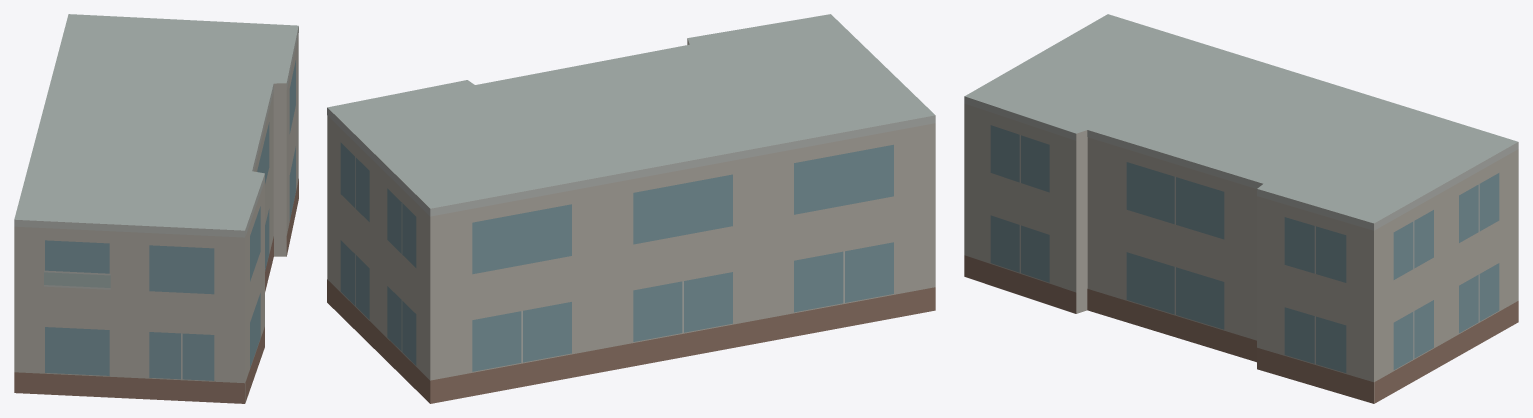
The model's file is survey-upis-32554551.glb.
3 views of the same model, side by side, from view 1: azimuth 30°, elevation 25°; view 2: azimuth 150°, elevation 25°; view 3: azimuth 270°, elevation 25° (orthographic). The views are drawn at different scales.
Visible parts, largest first — view 1: survey-upis-32554551.tmp; view 2: survey-upis-32554551.tmp; view 3: survey-upis-32554551.tmp.
Boxes of the visible parts, x1,y1,x2,y2 form: survey-upis-32554551.tmp: (14, 14, 298, 403); survey-upis-32554551.tmp: (327, 14, 935, 403); survey-upis-32554551.tmp: (964, 14, 1518, 403).
Size of the model in its own units: 15.21 by 6.1 by 16.99.
